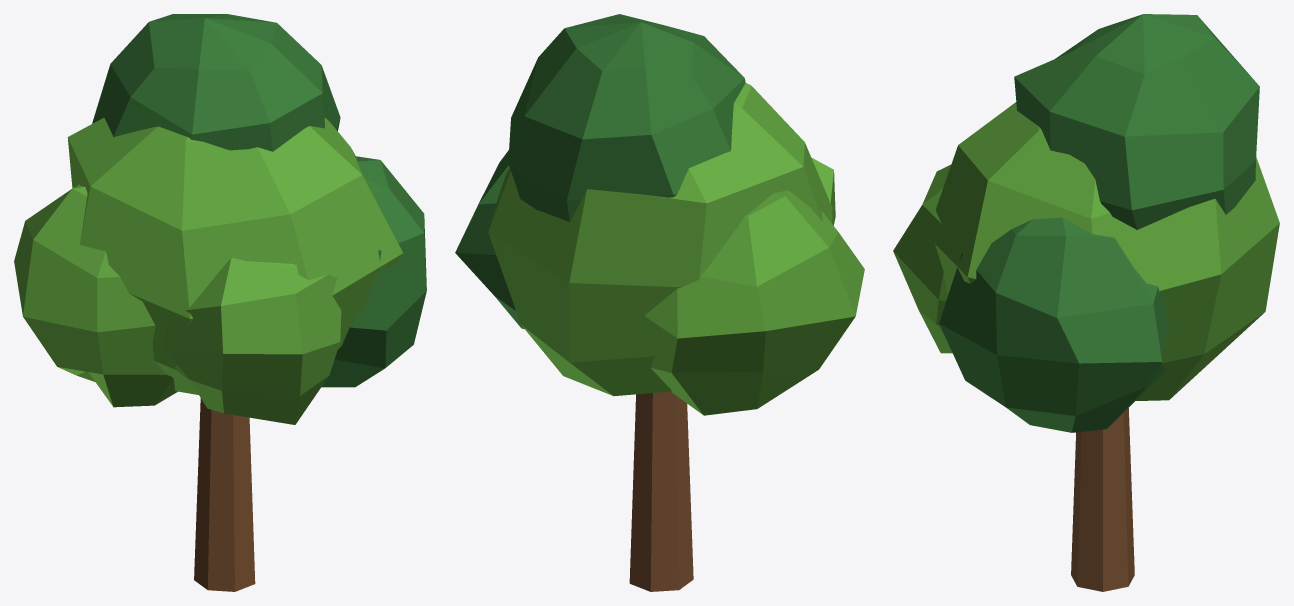
File: fruit_tree.obj
The picture shows the model from 3 angles, left to right: view 1: azimuth 30°, elevation 25°; view 2: azimuth 150°, elevation 25°; view 3: azimuth 270°, elevation 25°; orthographic projection. The views are drawn at different scales.
Parts seen in each view (by area): view 1: crown, trunk; view 2: crown, trunk; view 3: crown, trunk.
Boxes of the visible parts, bbox=[...] form: crown: bbox=[14, 14, 426, 424]; trunk: bbox=[194, 398, 255, 591]; crown: bbox=[455, 14, 864, 415]; trunk: bbox=[629, 391, 693, 591]; crown: bbox=[893, 14, 1279, 432]; trunk: bbox=[1071, 408, 1134, 591].
Size of the model in its own units: 1.94 by 2.66 by 1.65.
